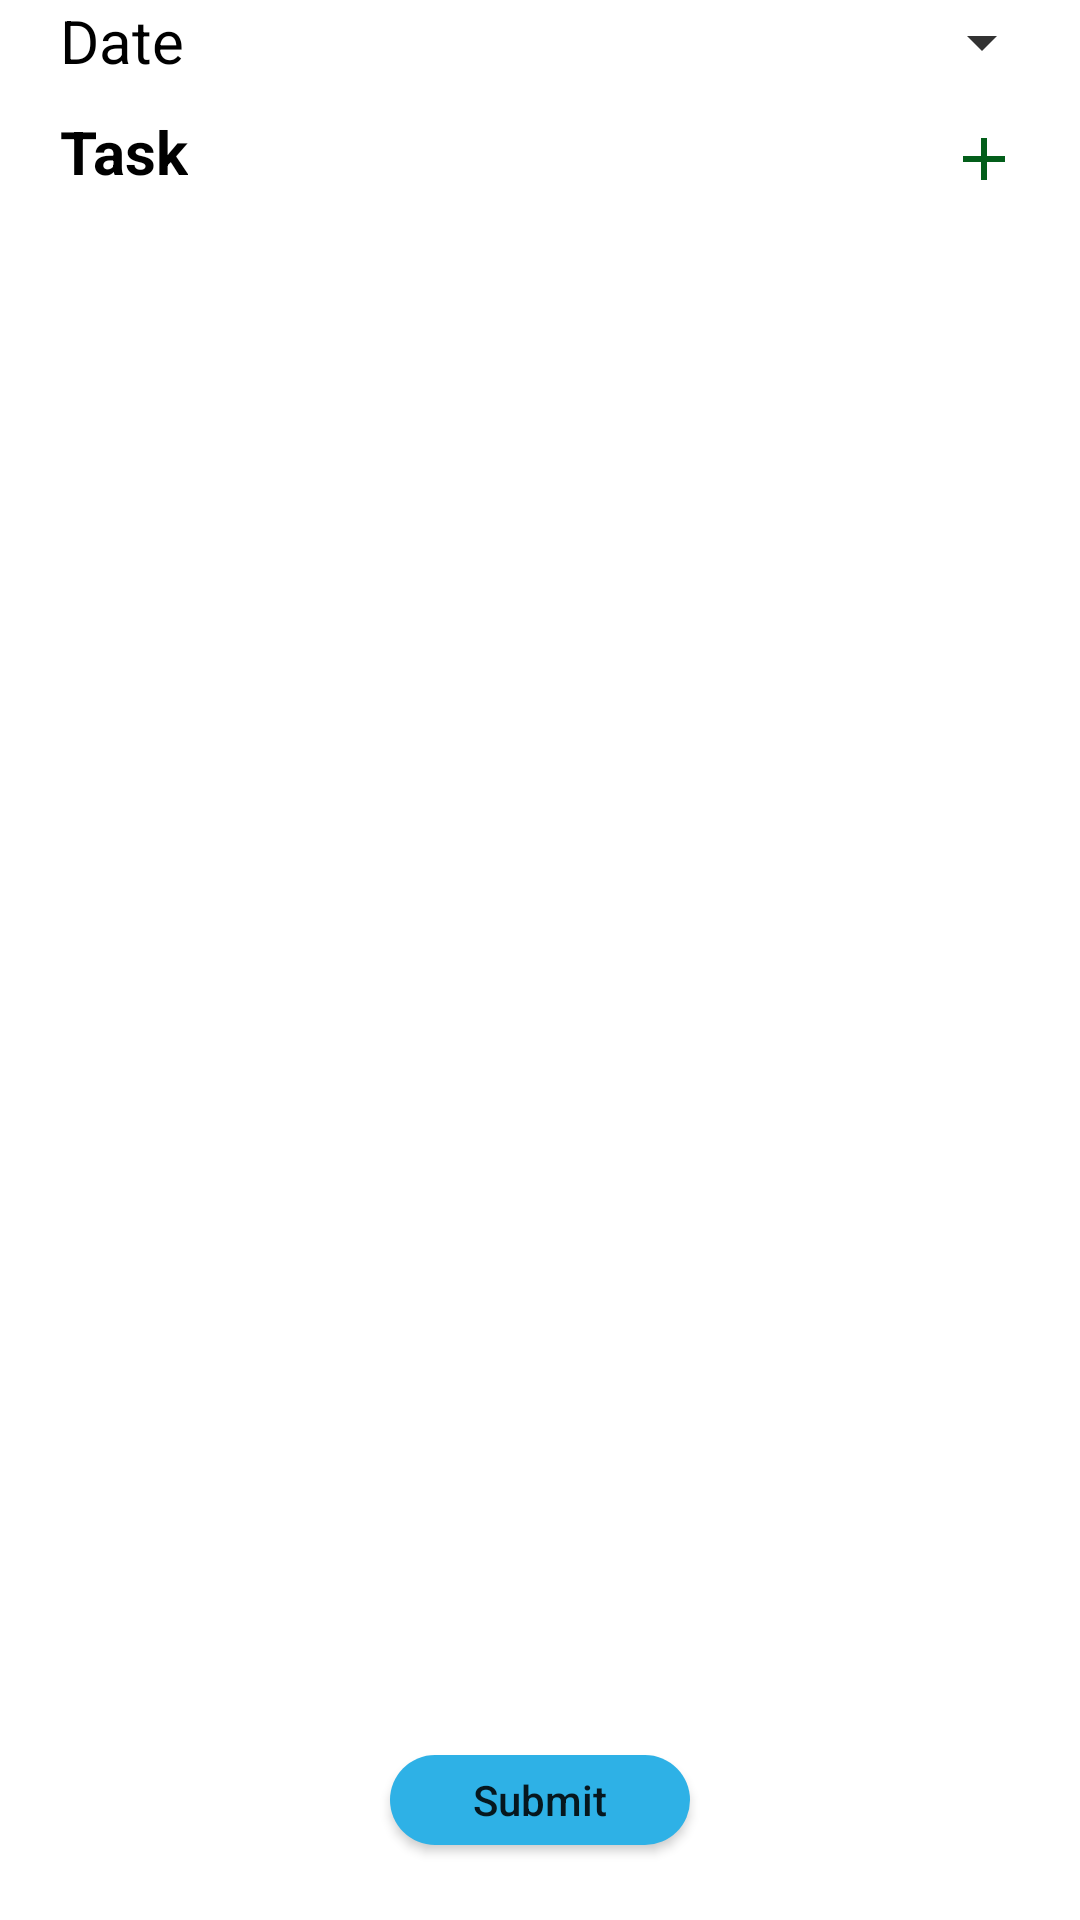

Screen size 1080px x 1920px. Icon name, then its center in pixels as (x=x, y=y):
down: (x=982, y=43)
